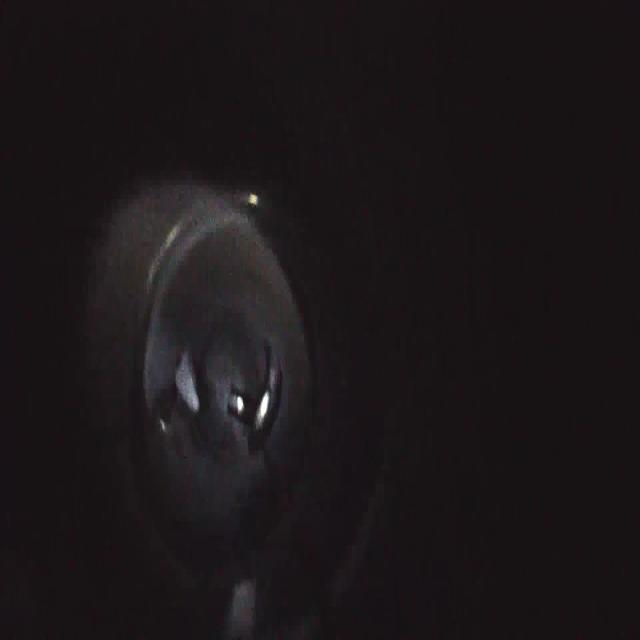impurity: (171, 340, 206, 412)
